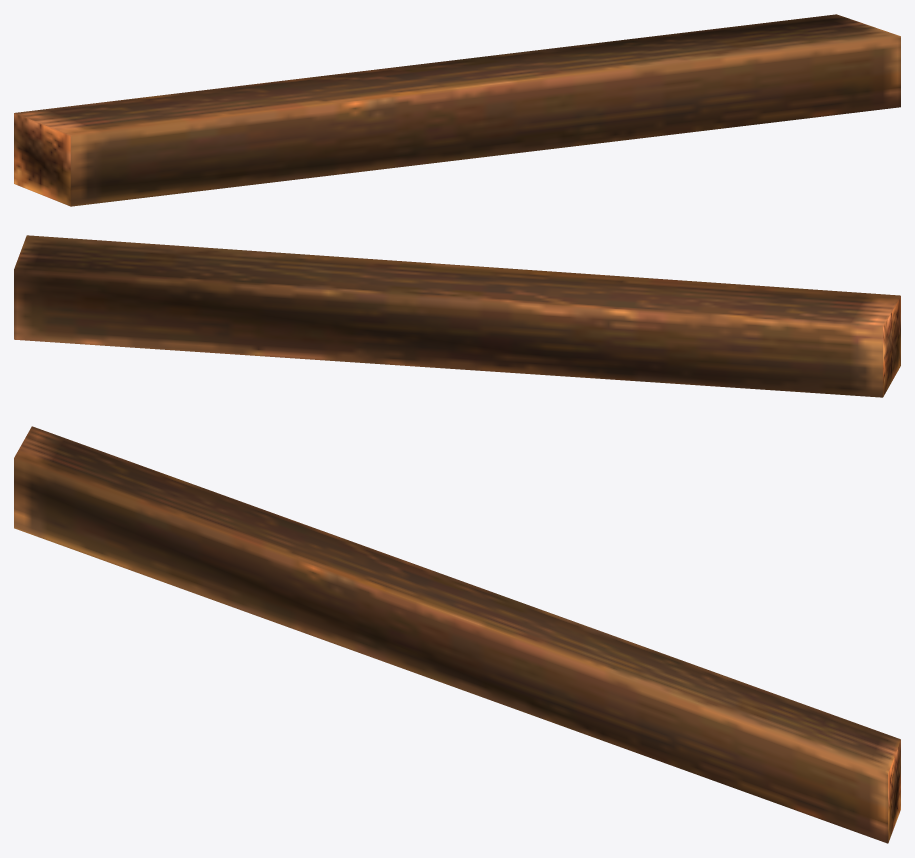
Rendered from SWORDLIGHT20_JAILBRACE52.fbx.
3 renders of one model, top to bottom at view 1: azimuth 30°, elevation 25°; view 2: azimuth 150°, elevation 25°; view 3: azimuth 330°, elevation 25°, orthographic.
Visible parts, largest first — view 1: SWORDLIGHT20_JAILBRACE52; view 2: SWORDLIGHT20_JAILBRACE52; view 3: SWORDLIGHT20_JAILBRACE52.
Part boxes in pixels (x1,y1,x2,y2): SWORDLIGHT20_JAILBRACE52: [14, 14, 900, 206]; SWORDLIGHT20_JAILBRACE52: [14, 235, 900, 397]; SWORDLIGHT20_JAILBRACE52: [14, 426, 900, 843].
Size of the model in its own units: 51680 by 11266 by 6637.
1 material, 1 textured.
